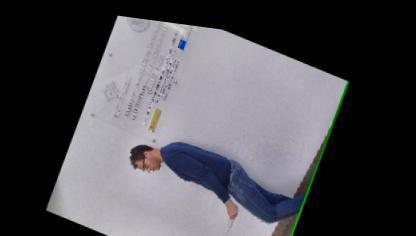knife: (223, 192, 245, 234)
